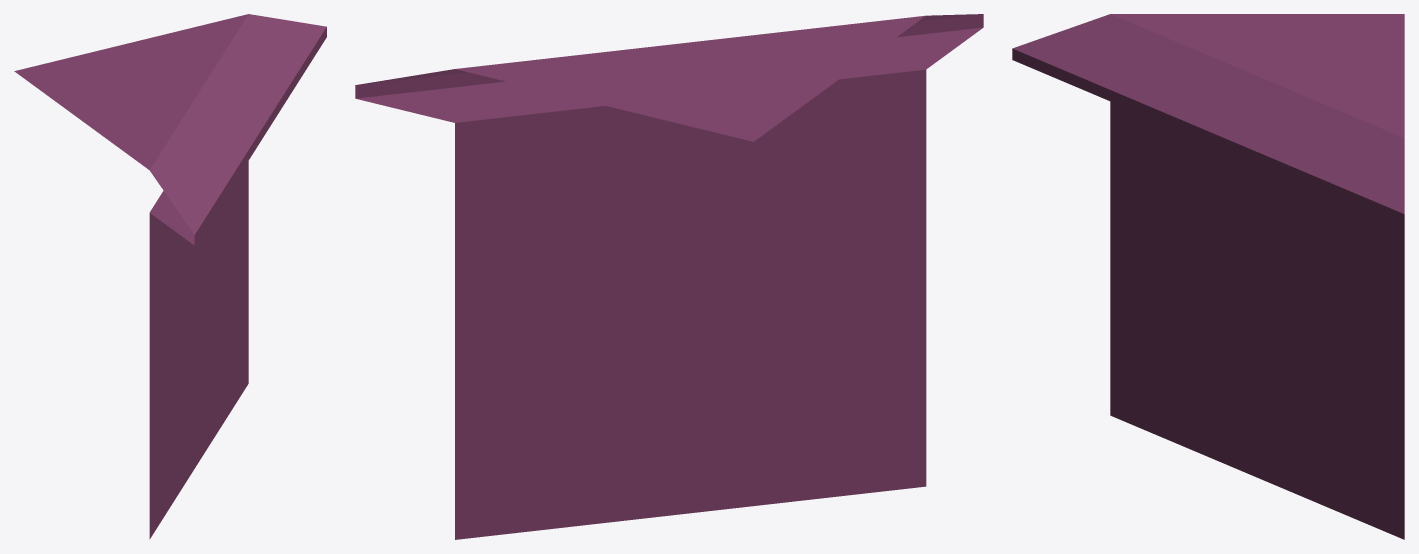
File: Roof_45_Corner_2.fbx
The picture shows the model from 3 angles, left to right: view 1: azimuth 30°, elevation 25°; view 2: azimuth 150°, elevation 25°; view 3: azimuth 270°, elevation 25°; orthographic projection. The views are drawn at different scales.
Visible parts, largest first — view 1: Roof_45_Corner_2; view 2: Roof_45_Corner_2; view 3: Roof_45_Corner_2.
Boxes of the visible parts, box(x1,y1,x2,y2) form: Roof_45_Corner_2: box(14, 14, 326, 539); Roof_45_Corner_2: box(355, 14, 983, 539); Roof_45_Corner_2: box(1012, 14, 1404, 539).
Bounding box in the file's own units: 4 × 4.52 × 4.
